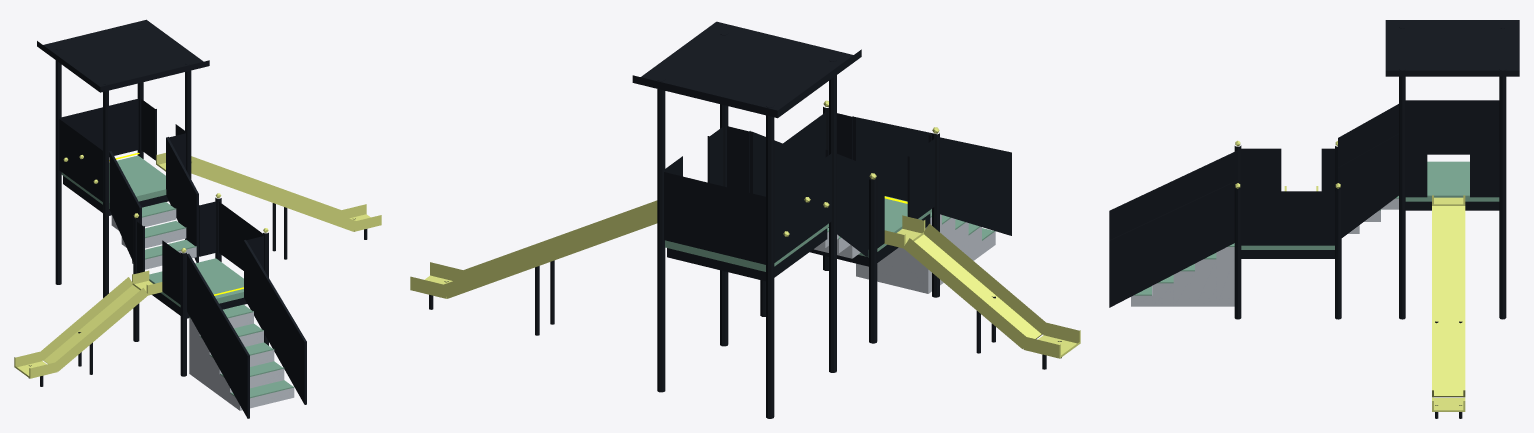
The model's file is tt_play_tower.glb.
3 renders of one model, left to right at view 1: azimuth 30°, elevation 25°; view 2: azimuth 150°, elevation 25°; view 3: azimuth 270°, elevation 25°, orthographic. The views are drawn at different scales.
Parts seen in each view (by area): view 1: Stair_Cheeks, Guard_Panels, Slide_Chute, Canopy, Posts, Stair_Cast, Decks, Treads_Rubber, Deck_Frame, Slide_Legs; view 2: Guard_Panels, Stair_Cheeks, Slide_Chute, Canopy, Posts, Stair_Cast, Deck_Frame, Decks, Slide_Legs; view 3: Stair_Cheeks, Guard_Panels, Canopy, Slide_Chute, Posts, Stair_Cast, Decks, Deck_Frame.
Boxes of the visible parts, x1,y1,x2,y2 form: Stair_Cheeks: (109,137,306,418); Guard_Panels: (59,98,263,304); Slide_Chute: (14,153,381,378); Canopy: (37,19,209,92); Posts: (55,29,268,376); Stair_Cast: (111,209,294,410); Decks: (61,155,243,307); Treads_Rubber: (142,202,294,398); Deck_Frame: (63,176,247,318); Slide_Legs: (29,203,367,386); Guard_Panels: (664,112,934,264); Stair_Cheeks: (750,116,1011,256); Slide_Chute: (410,200,1080,358); Canopy: (632,21,861,118); Posts: (657,34,939,418); Stair_Cast: (814,214,995,293); Deck_Frame: (667,213,930,281); Decks: (665,200,931,271); Slide_Legs: (429,260,1061,369); Stair_Cheeks: (1109,104,1398,307); Guard_Panels: (1241,100,1499,245); Canopy: (1385,20,1519,76); Slide_Chute: (1284,186,1465,411); Posts: (1234,27,1506,319); Stair_Cast: (1131,198,1398,306); Decks: (1241,161,1499,249); Deck_Frame: (1241,201,1499,258).
Size of what is drawn, in the model's own units: 7.69 by 4.2 by 6.13.
5 materials, 2 textured.
